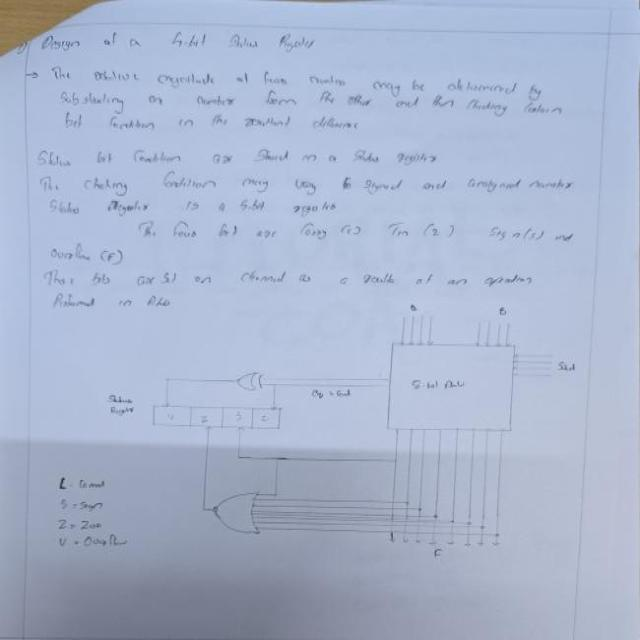Figure Detection - v3 Dataset Version2: (44, 292, 586, 572)
